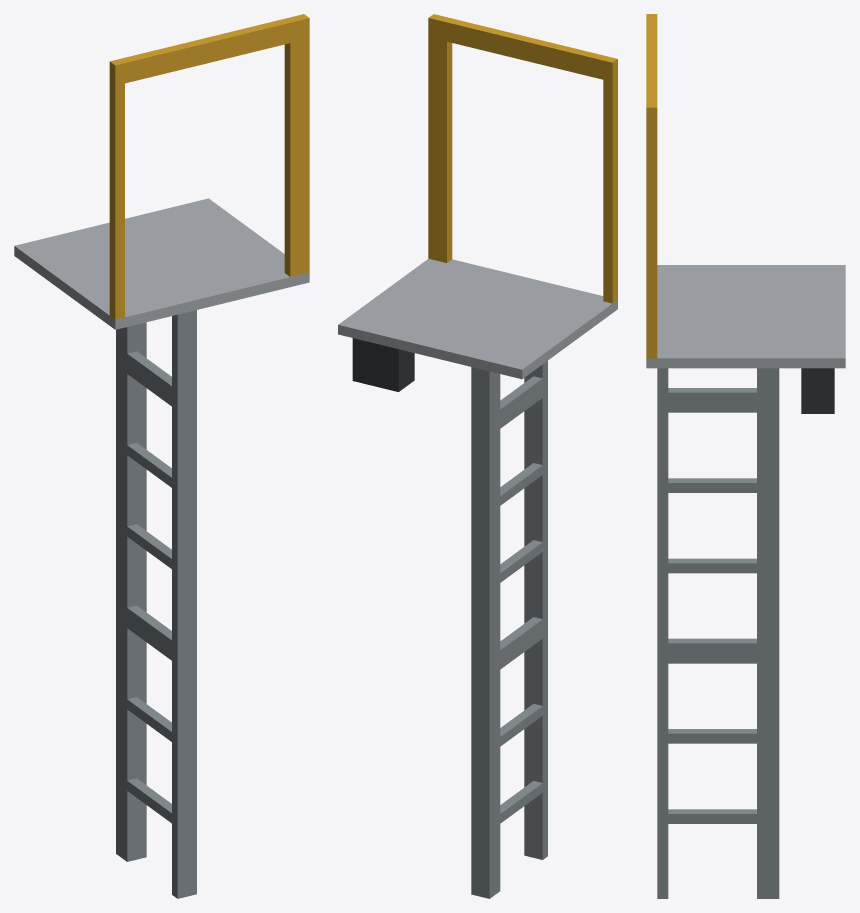
Rendered from cement_mixer_platform.glb.
The picture shows the model from 3 angles, left to right: view 1: azimuth 30°, elevation 25°; view 2: azimuth 150°, elevation 25°; view 3: azimuth 270°, elevation 25°; orthographic projection. The views are drawn at different scales.
Parts seen in each view (by area): view 1: body:compound; view 2: body:compound; view 3: body:compound.
Boxes of the visible parts, box(x1,y1,x2,y2) form: body:compound: box(14, 14, 309, 898); body:compound: box(338, 14, 617, 898); body:compound: box(646, 14, 845, 898).
Bounding box in the file's own units: 0.625 × 2.62 × 0.5625.
